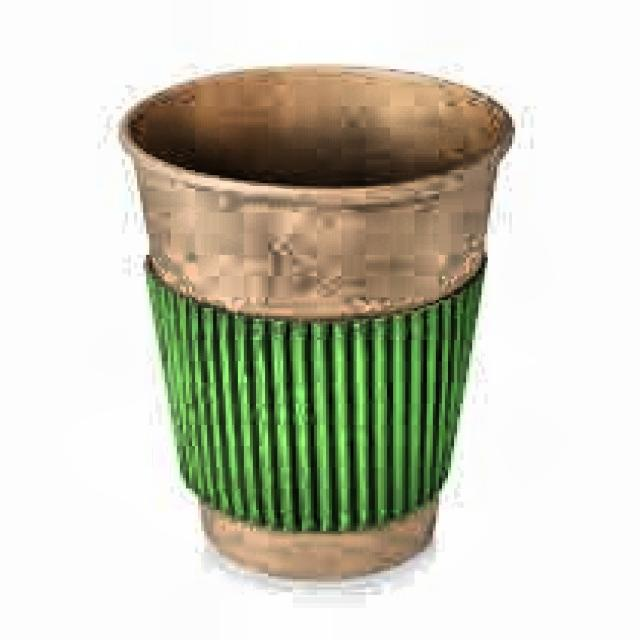Cup: (102, 57, 528, 590)
